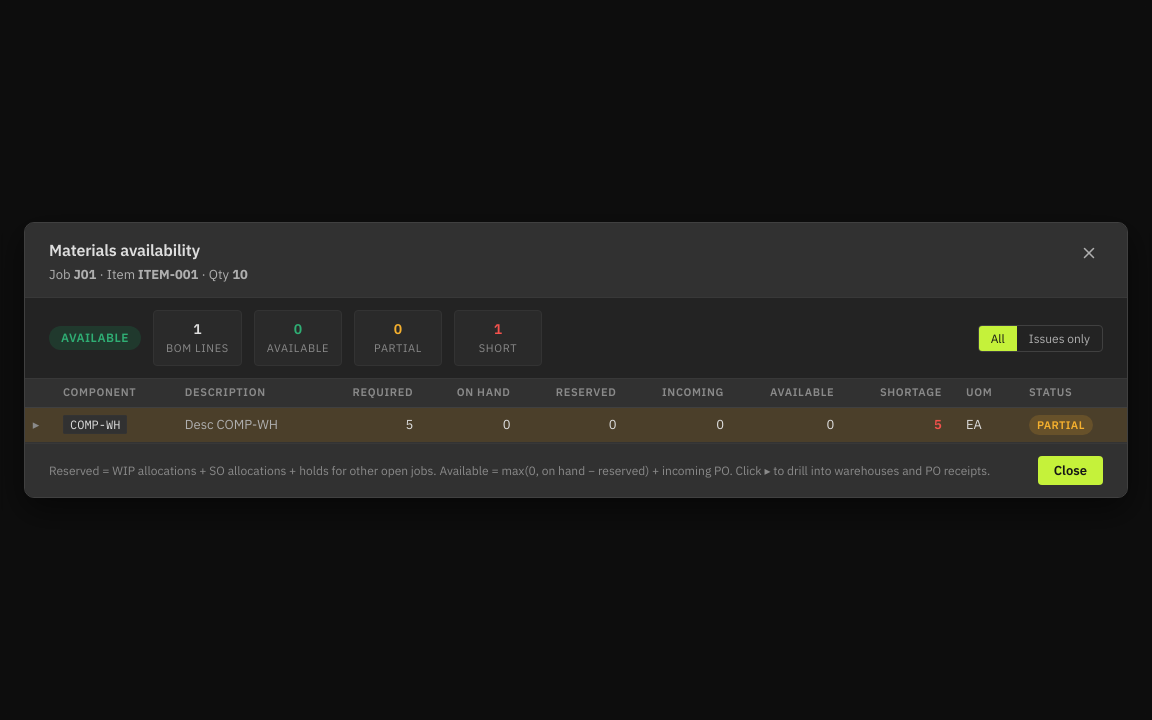
Test case: BomDetailModal › clicking the expand chevron on a line with warehouses shows the warehouse breakdown
Click the button named "expand details". click: (36, 425)
box: 25,414 -> 47,436
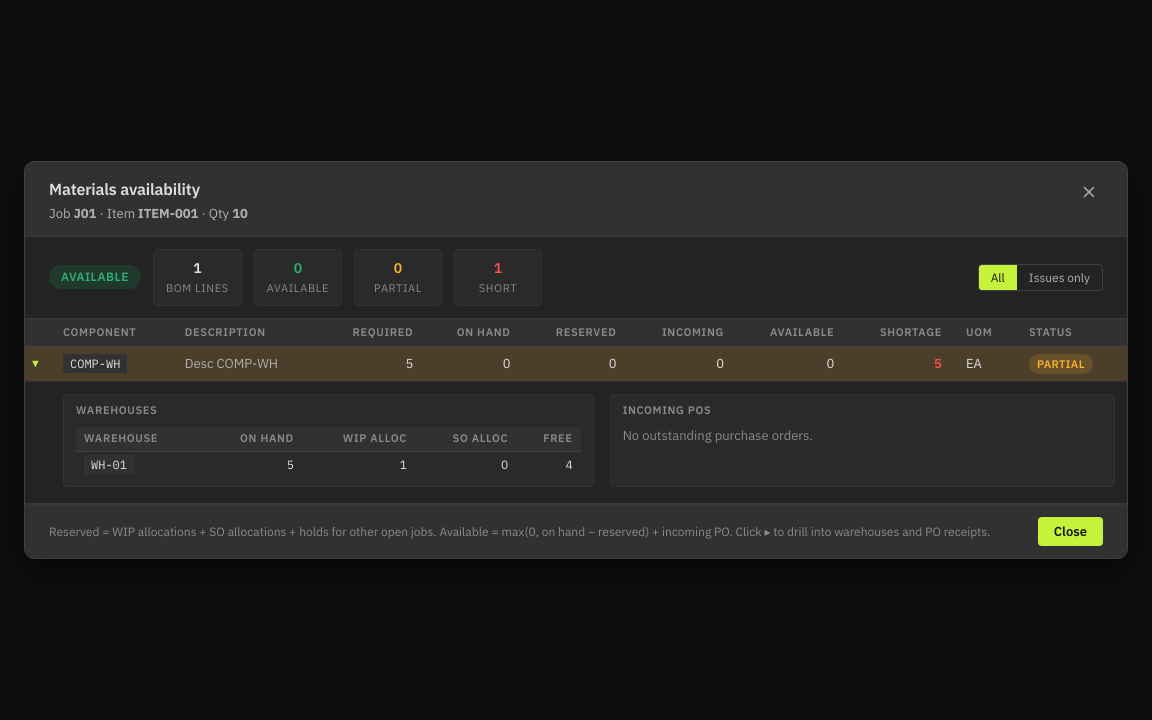
Result: the text "WH-01" is shown at 84,455 -> 134,474
